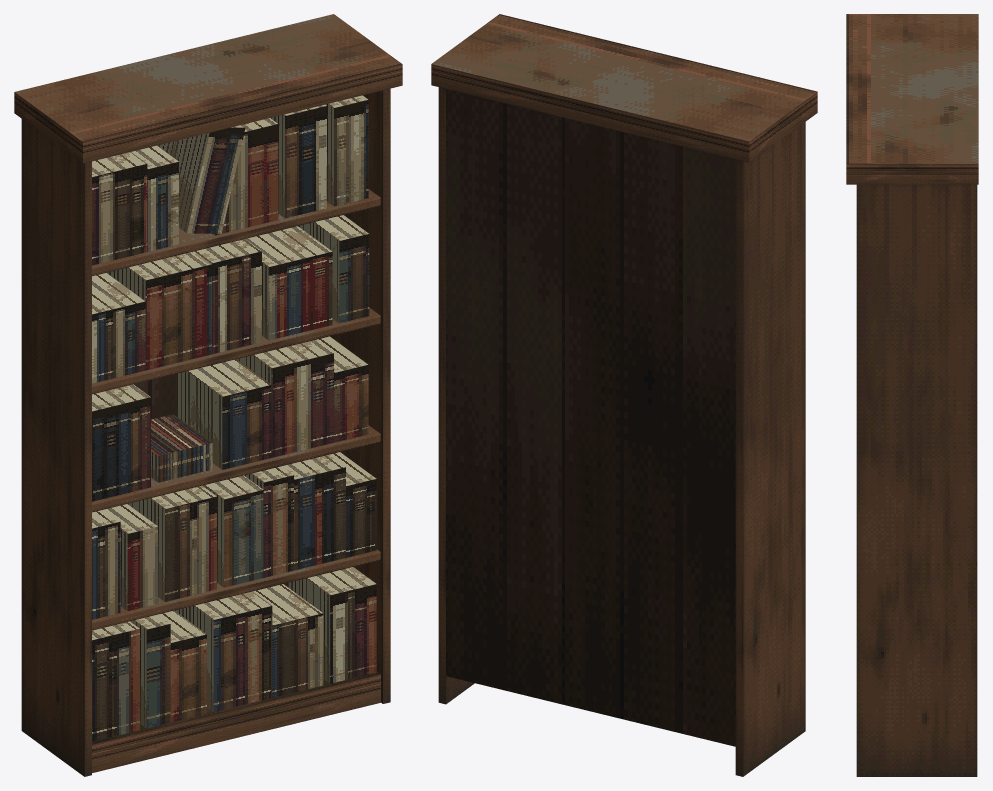
The model's file is bookshelf_books.glb.
3 renders of one model, left to right at view 1: azimuth 30°, elevation 25°; view 2: azimuth 150°, elevation 25°; view 3: azimuth 270°, elevation 25°, orthographic. The views are drawn at different scales.
Parts seen in each view (by area): view 1: bookshelf_books; view 2: bookshelf_books; view 3: bookshelf_books.
Part boxes in pixels (x1,y1,x2,y2): bookshelf_books: [14, 14, 402, 776]; bookshelf_books: [431, 14, 817, 776]; bookshelf_books: [846, 14, 978, 776].
Size of the model in its own units: 0.94 by 1.8 by 0.35.
1 material, 1 textured.
